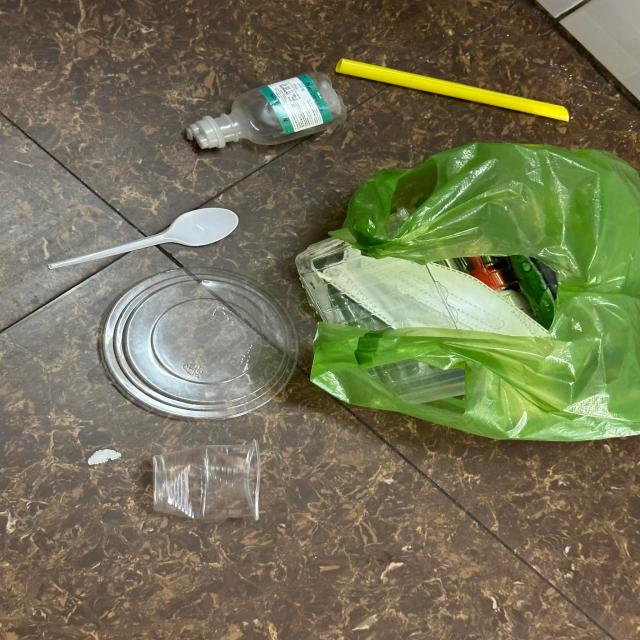bottle: (187, 75, 345, 149)
drinking straw: (336, 59, 569, 124)
lid: (104, 266, 303, 419)
plastic glass: (152, 441, 260, 521)
plastic utensil: (48, 208, 238, 270)
trash bag: (293, 141, 640, 441)
